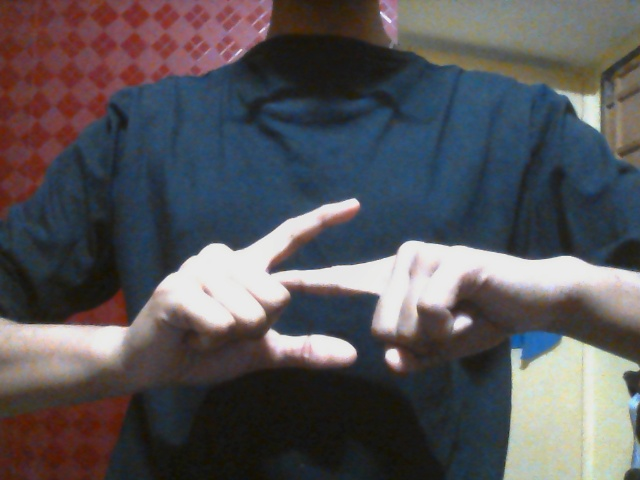E: (158, 195, 511, 382)
